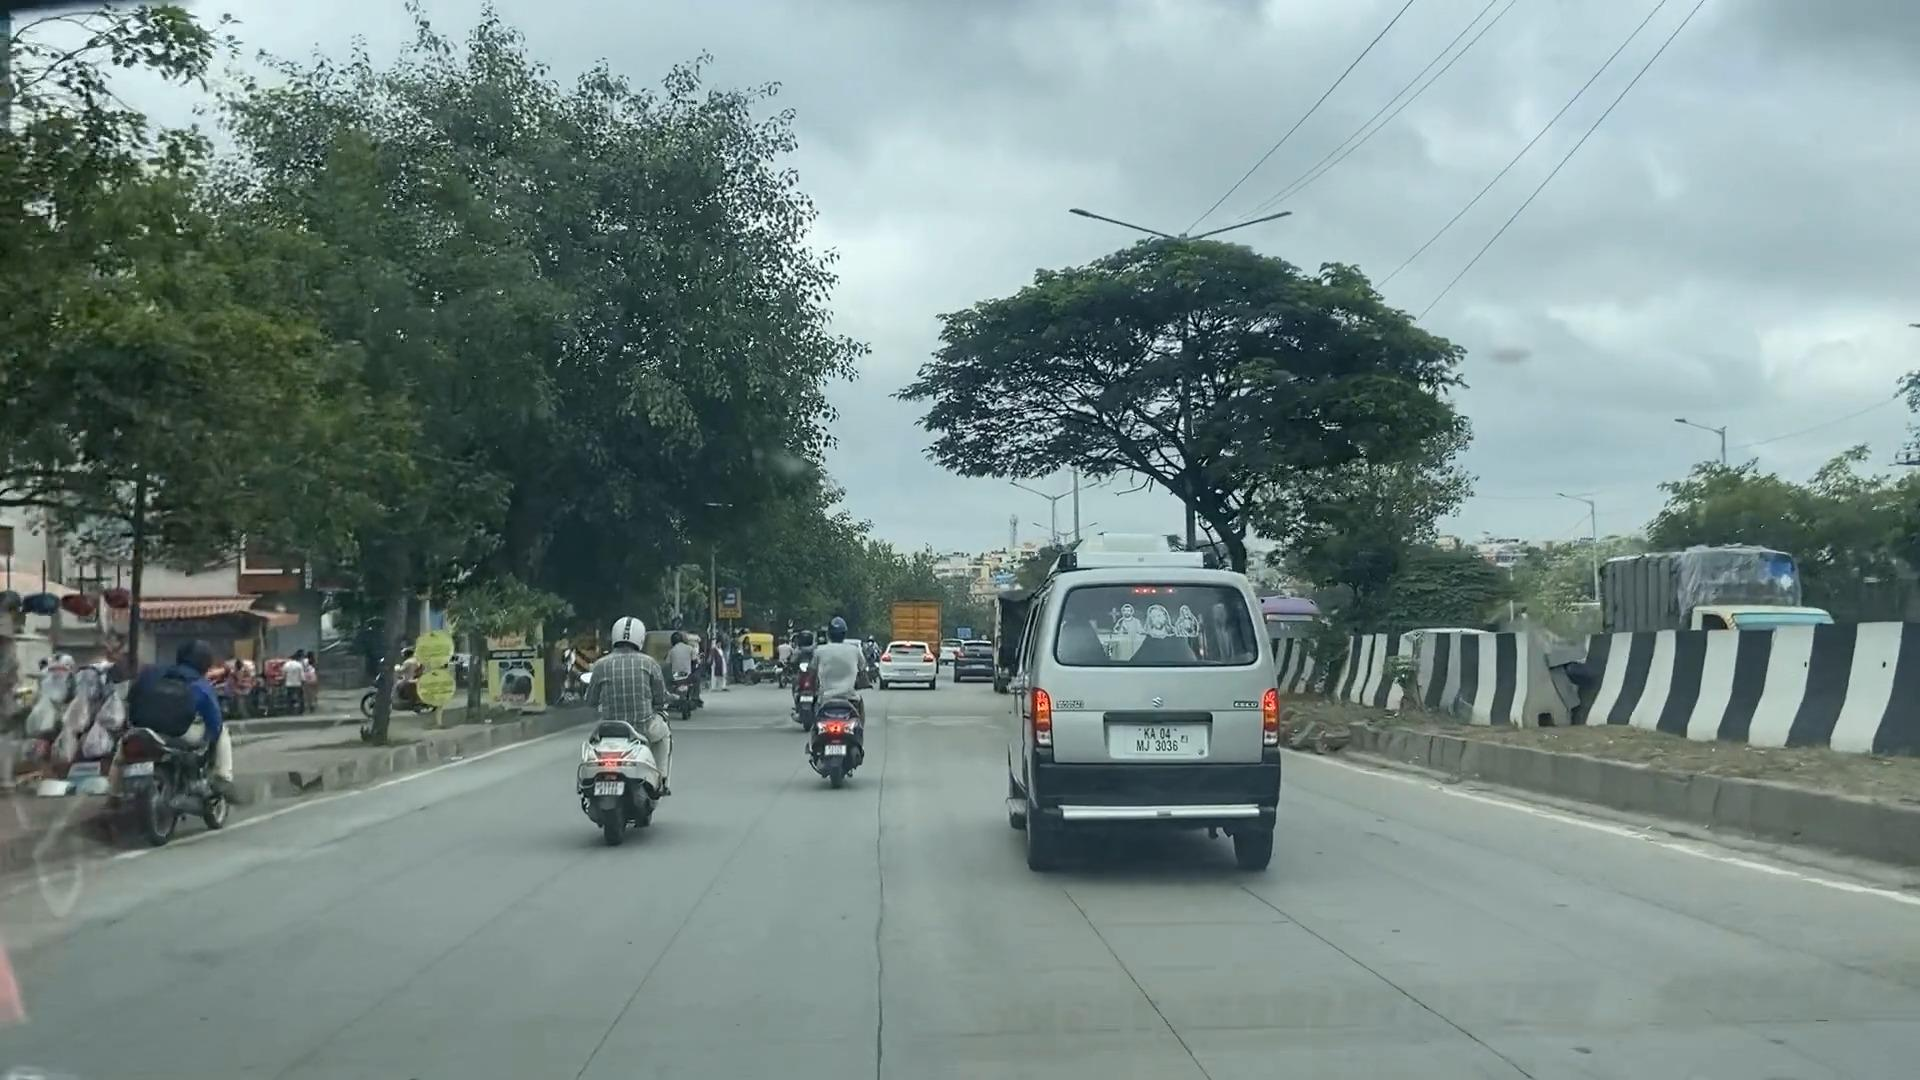LMV: (1015, 555, 1286, 877), (527, 616, 711, 882), (795, 618, 895, 796)
